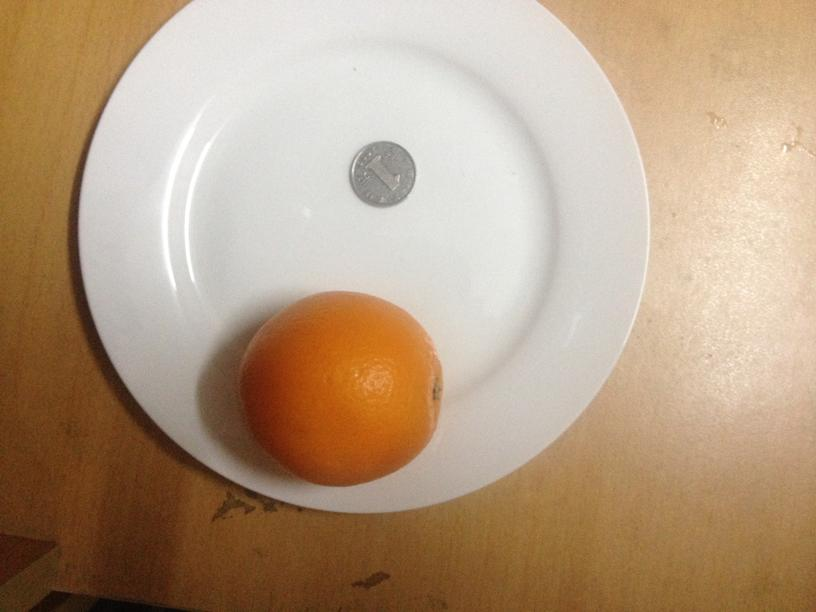coin: (347, 141, 417, 208)
orange: (242, 290, 439, 487)
